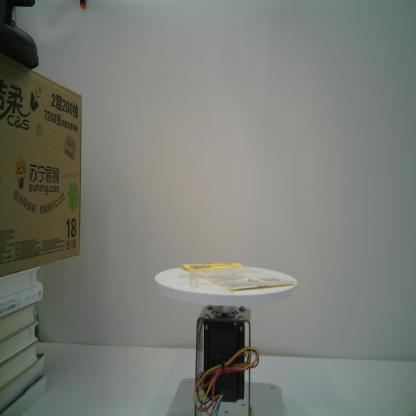Stationery: (177, 260, 296, 293)
